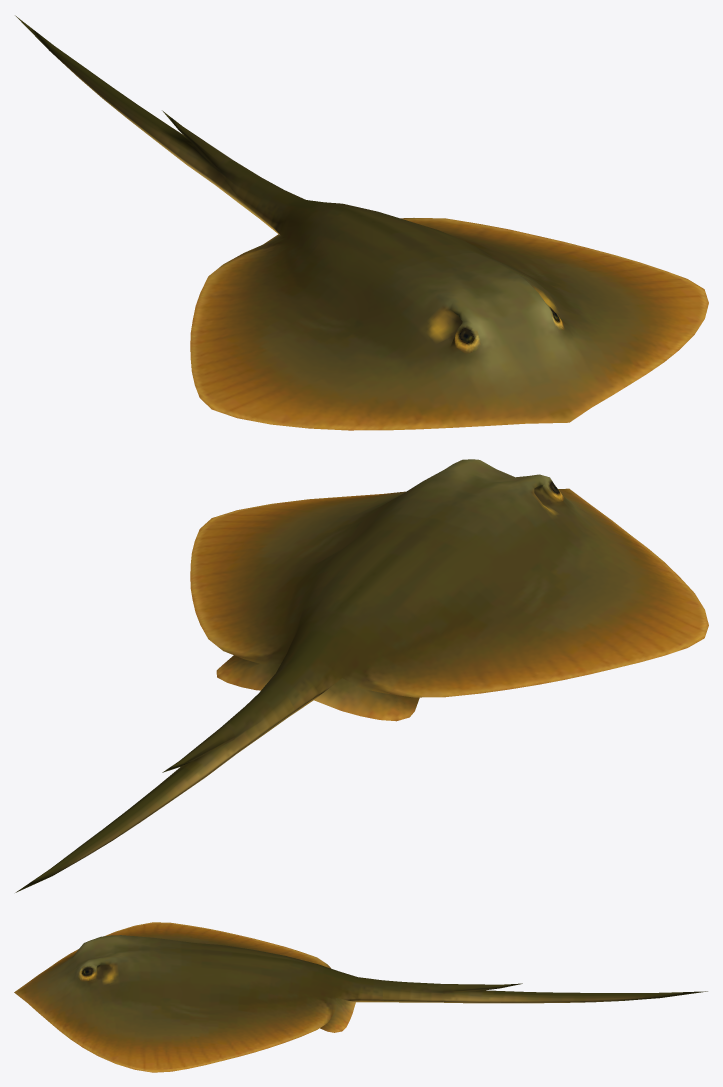
File: FishEi.glb
3 renders of one model, top to bottom at view 1: azimuth 30°, elevation 25°; view 2: azimuth 150°, elevation 25°; view 3: azimuth 270°, elevation 25°, orthographic. The views are drawn at different scales.
Visible parts, largest first — view 1: FishEi__mEi; view 2: FishEi__mEi; view 3: FishEi__mEi.
Part boxes in pixels (x1,y1,x2,y2): FishEi__mEi: (15,15,708,430); FishEi__mEi: (15,459,708,892); FishEi__mEi: (14,922,707,1072).
Size of the model in its own units: 9.67 by 1.71 by 18.87.
1 material, 1 textured.
